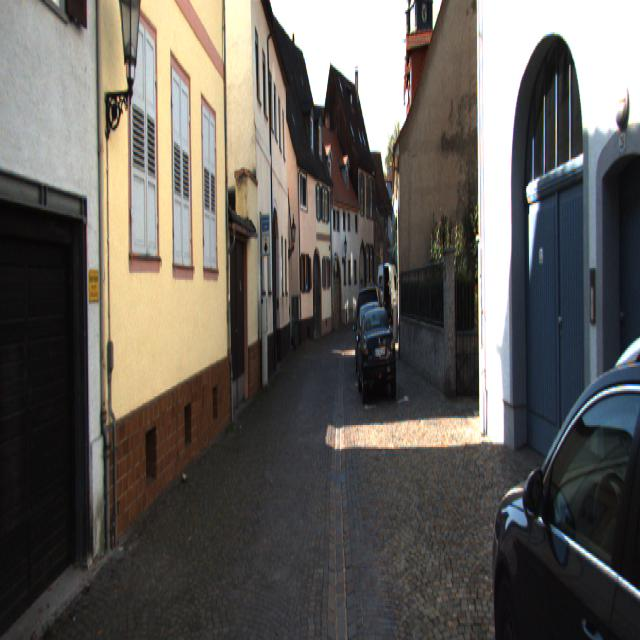Car: (486, 302, 640, 638), (356, 303, 396, 400), (377, 260, 401, 322)
